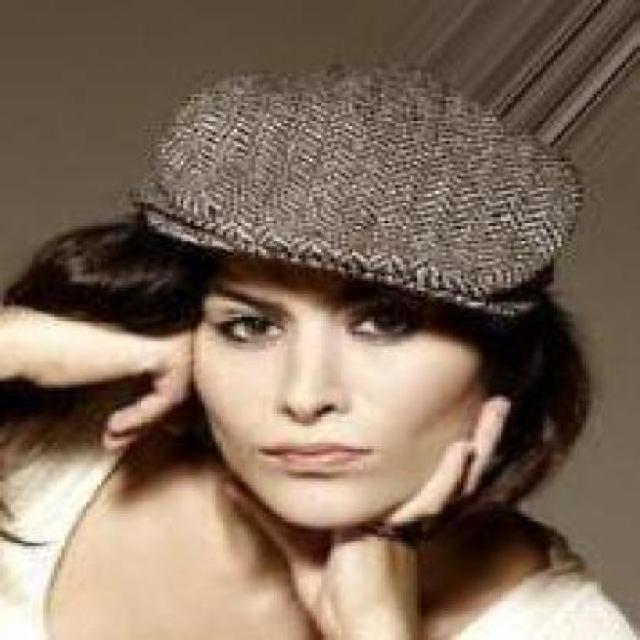closed-mouth: (256, 432, 376, 477)
